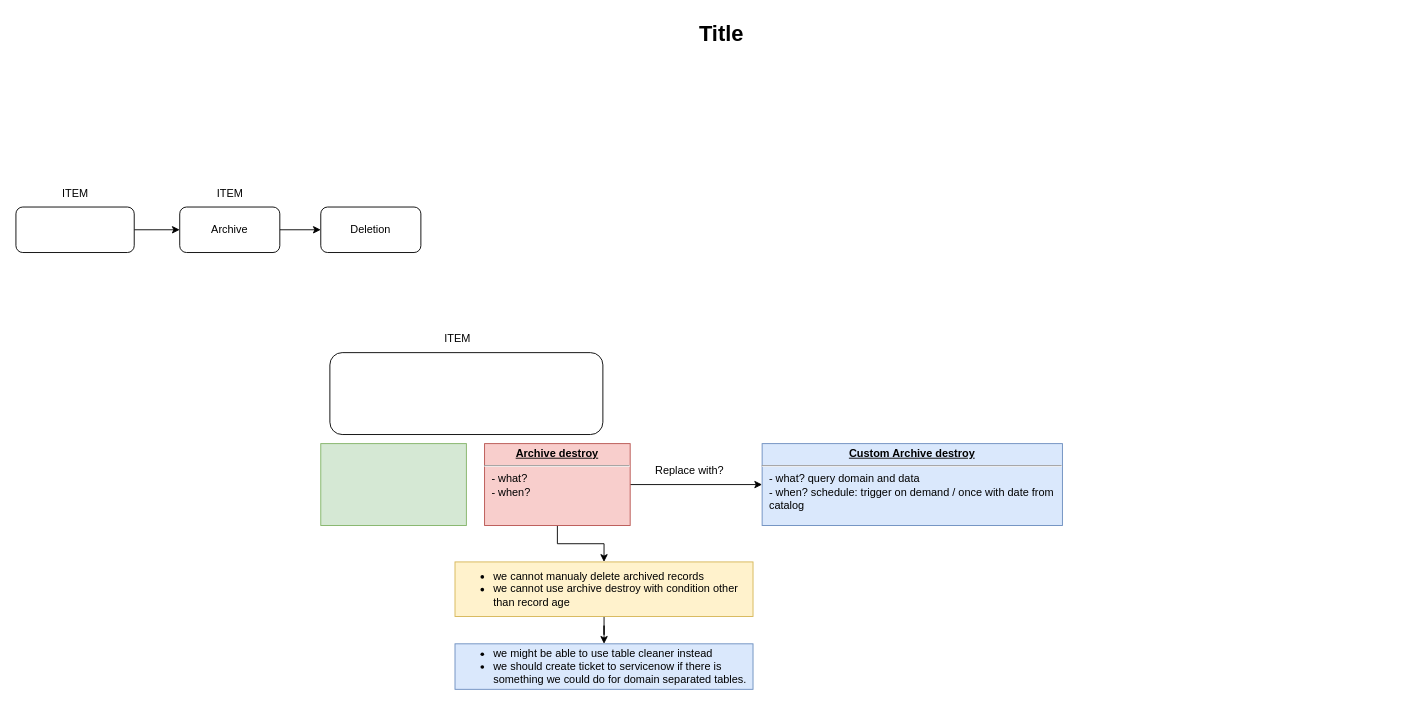
Some shapes in this 1424 by 713 pixel diagram are drawn without their labels. The box of each missing label's shape, as (x1, y1, x2, y2) in pixels:
Archive - what? - when?: (320, 443, 466, 526)
Archive/ Archive destroy: (329, 352, 603, 435)
offboarding: (15, 206, 134, 253)
